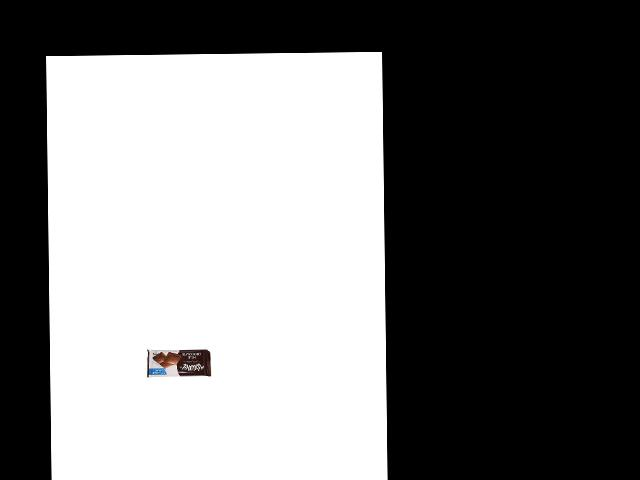chocolate: (146, 347, 210, 378)
